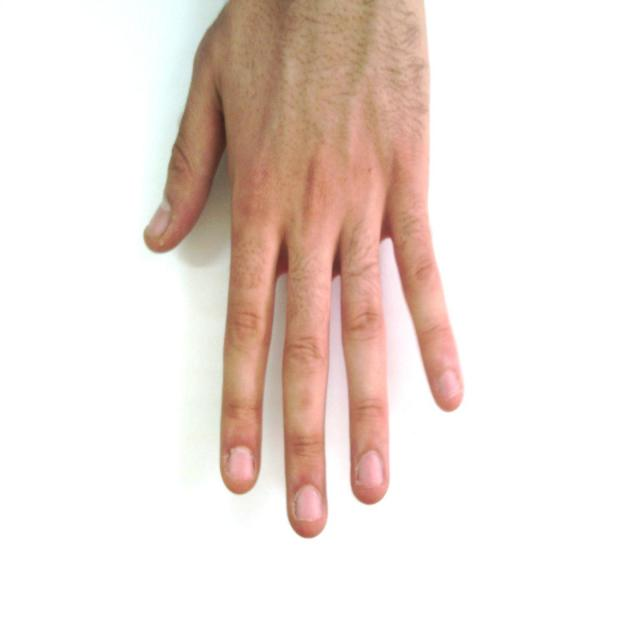others: (143, 0, 480, 549)
